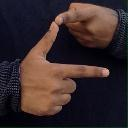hand: (18, 20, 110, 116), (54, 1, 118, 48)
